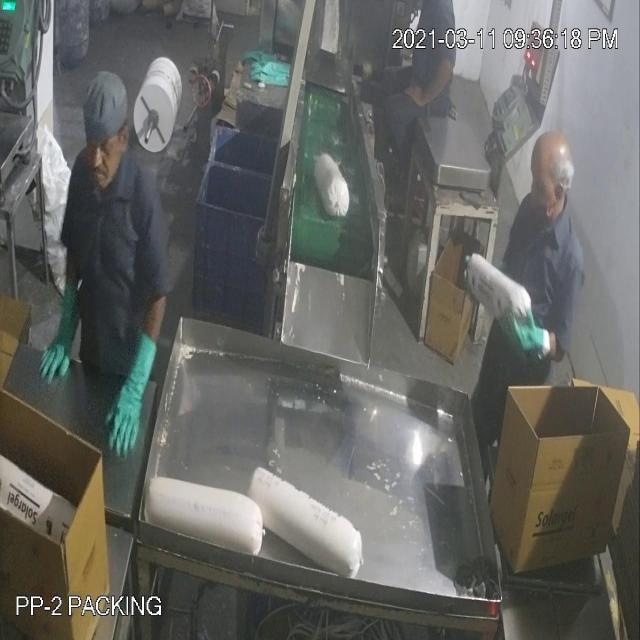No_Gloves: (48, 76, 427, 398)
